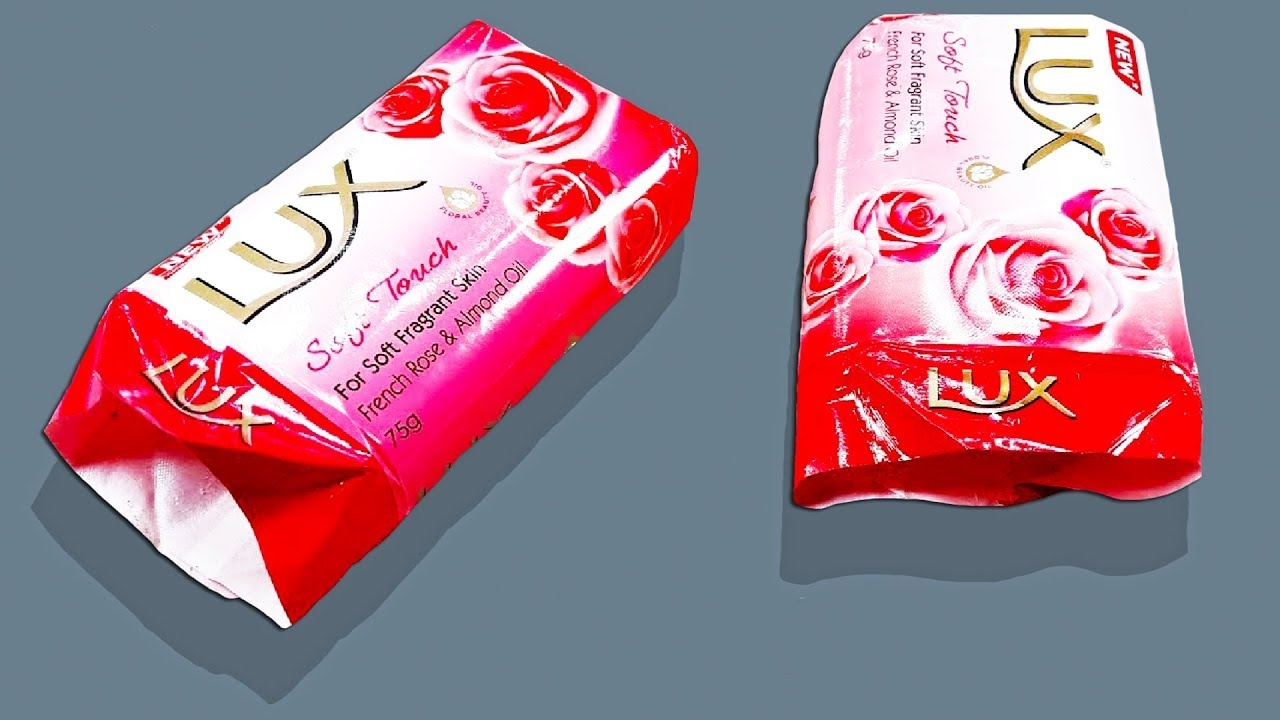paper: (39, 11, 715, 644), (779, 8, 1223, 522)
